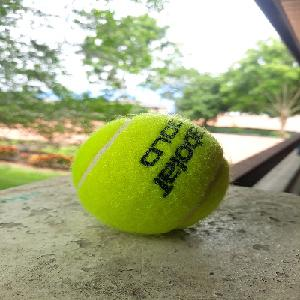Ball: (70, 112, 229, 235)
